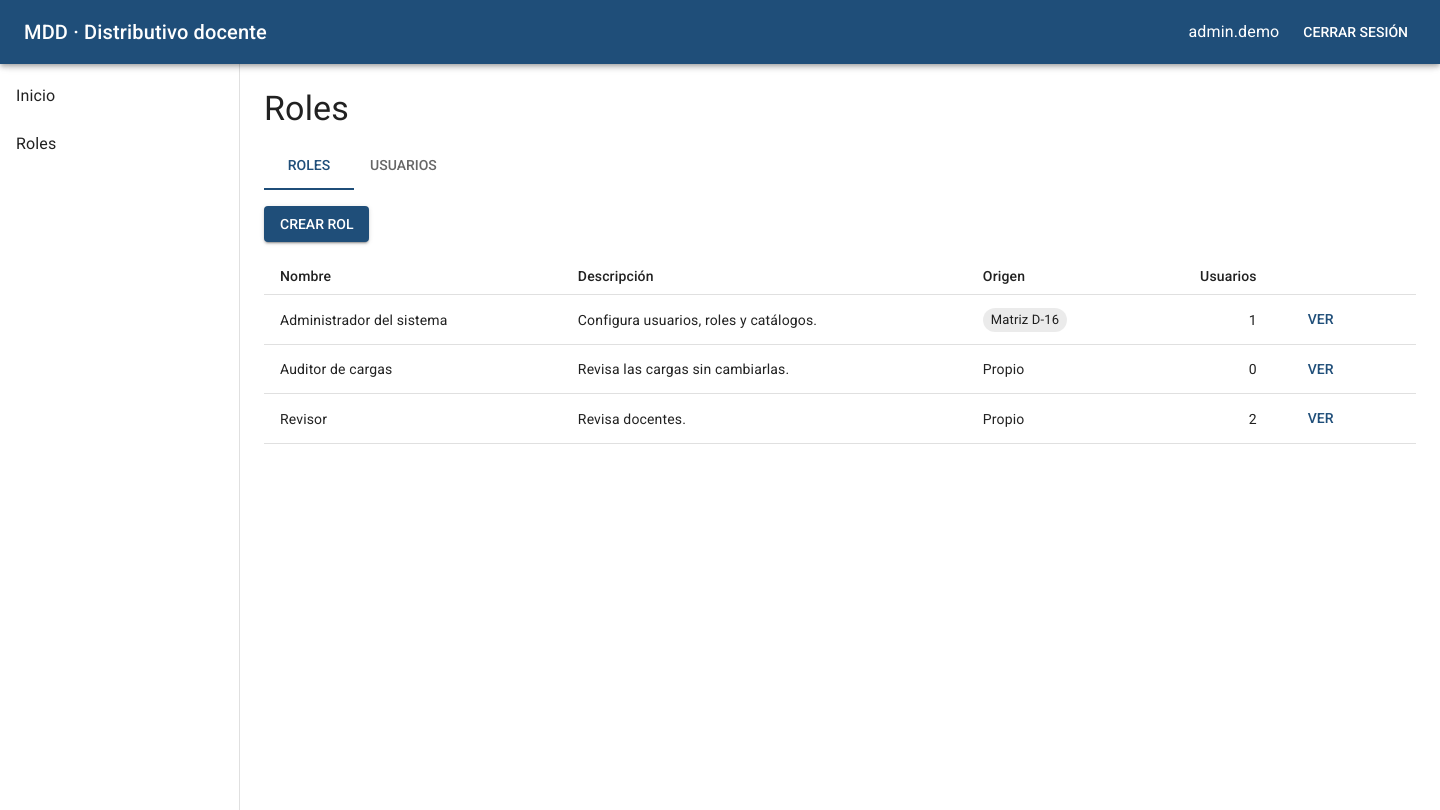
Test: Roles › con el administrador › el detalle de un rol de D-16 muestra su matriz en solo lectura
Click the button with aria-label "Ver Administrador del sistema" at (1321, 320), box [1289,301,1353,338]
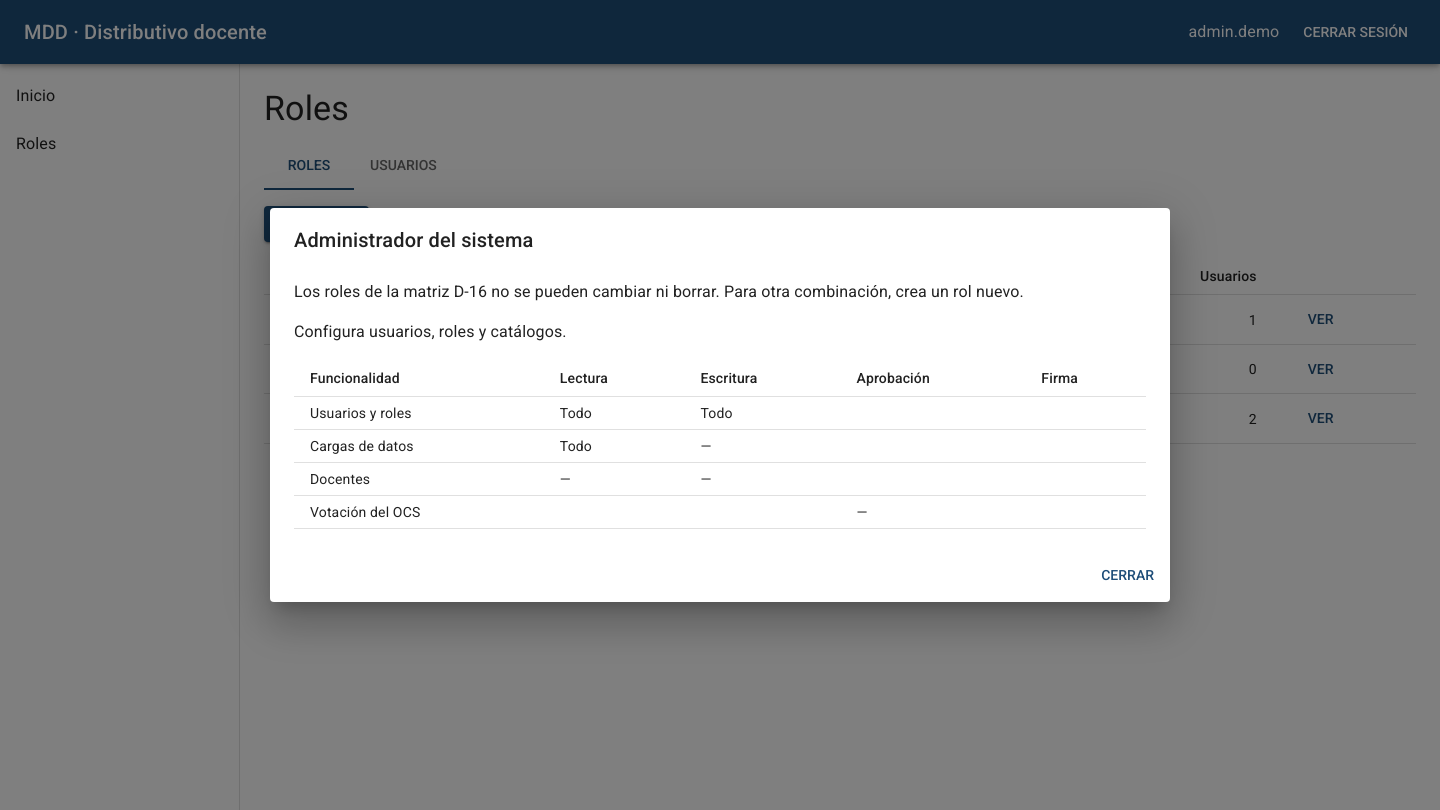
Now the dialog "Administrador del sistema" shows "Los roles de la matriz D-16 no se pueden cambiar ni borrar.", box [294,282,1024,301]
Now the cell named "Usuarios y roles: escritura" reads "Todo", box [700,405,733,421]
